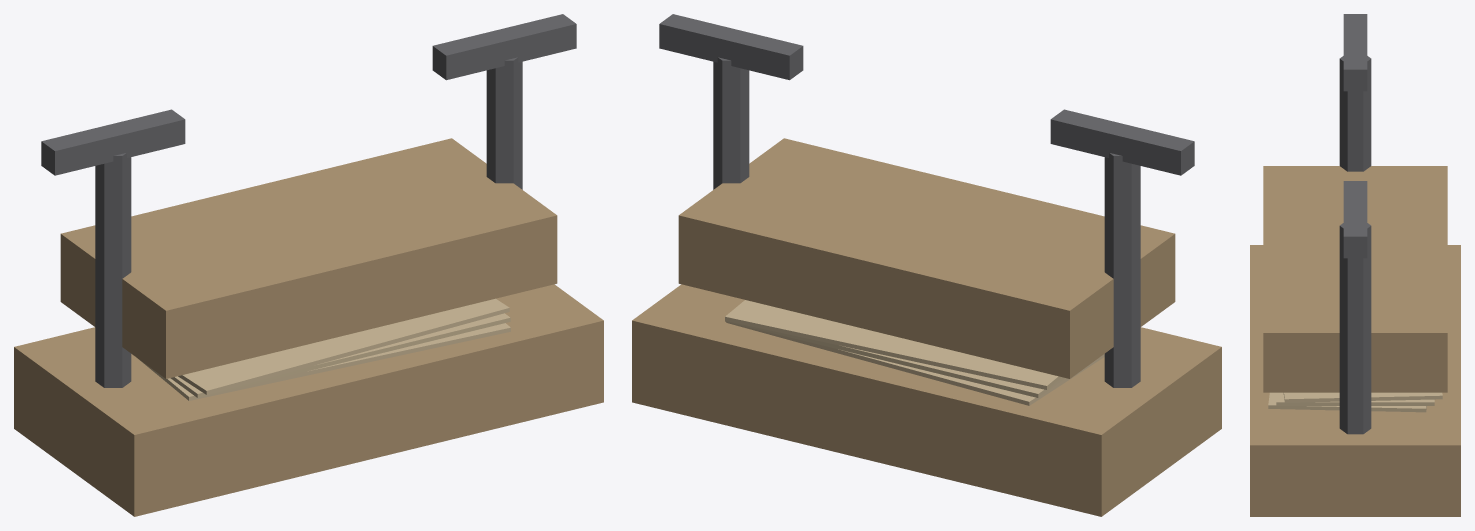
Rendered from prop-horn-press-clamp.fbx.
3 renders of one model, left to right at view 1: azimuth 30°, elevation 25°; view 2: azimuth 150°, elevation 25°; view 3: azimuth 270°, elevation 25°, orthographic. The views are drawn at different scales.
Parts seen in each view (by area): view 1: prop-horn-press-clamp; view 2: prop-horn-press-clamp; view 3: prop-horn-press-clamp.
Part boxes in pixels (x1,y1,x2,y2): prop-horn-press-clamp: (14,14,603,516); prop-horn-press-clamp: (632,14,1221,516); prop-horn-press-clamp: (1250,14,1460,516).
Bounding box in the file's own units: 40 × 24.4 × 16.
